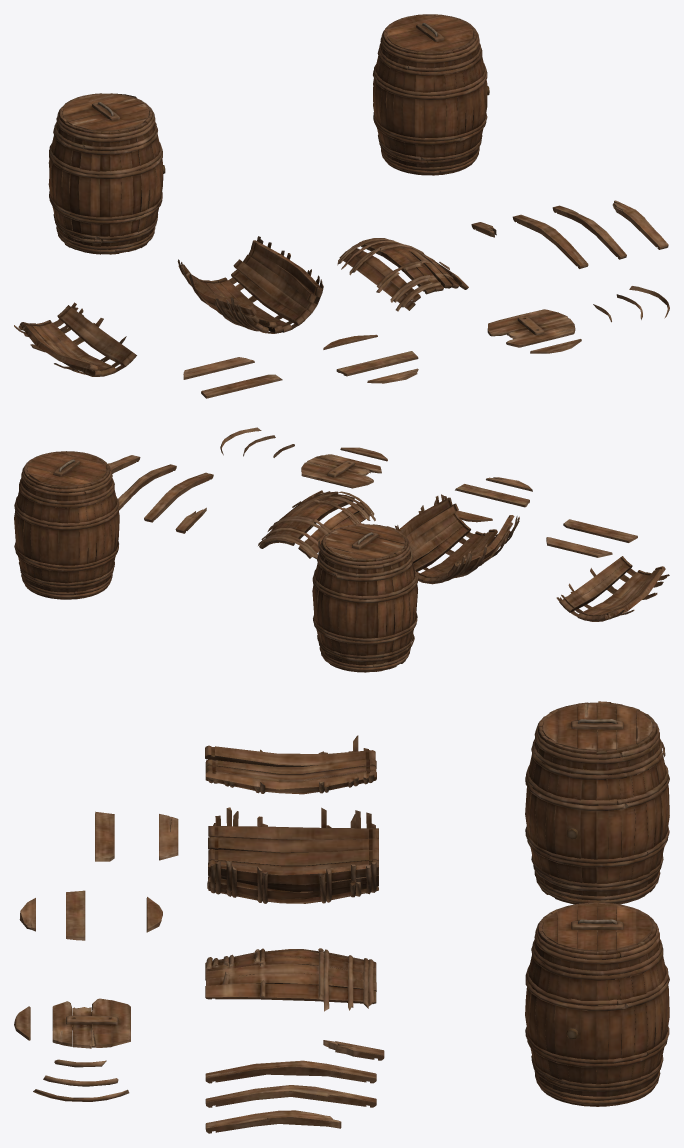
The model's file is barrels.glb.
3 views of the same model, one above another, from view 1: azimuth 30°, elevation 25°; view 2: azimuth 150°, elevation 25°; view 3: azimuth 270°, elevation 25° (orthographic). The views are drawn at different scales.
Bounding box in the file's own units: 4.44 × 0.9568 × 3.34.
Materials: 3 (3 with a texture image).
